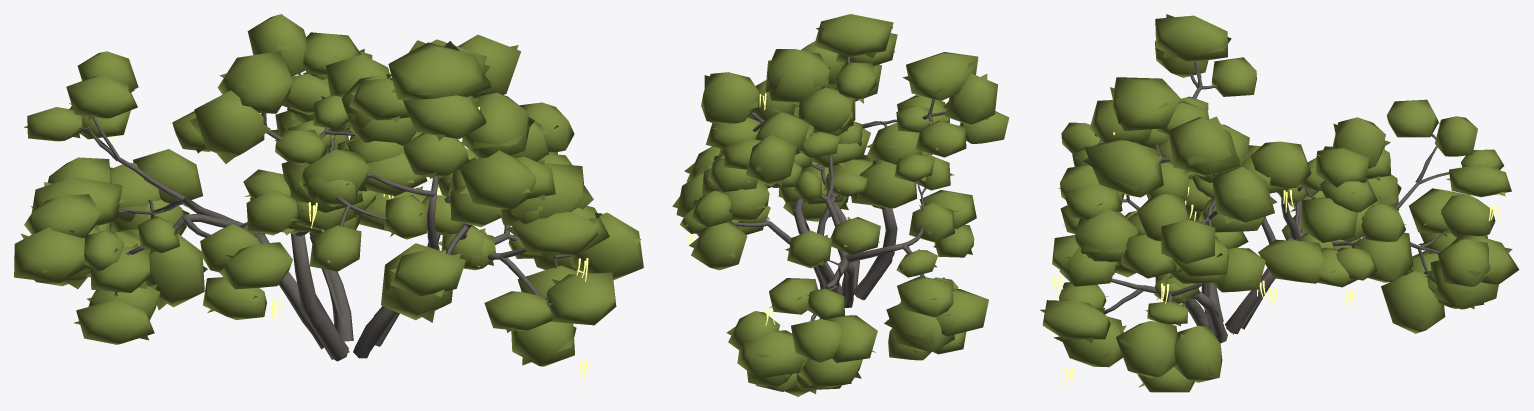
File: scrub_oak_4.glb
3 views of the same model, side by side, from view 1: azimuth 30°, elevation 25°; view 2: azimuth 150°, elevation 25°; view 3: azimuth 270°, elevation 25° (orthographic). The views are drawn at different scales.
Parts seen in each view (by area): view 1: ScrubOak_Far_Foliage, ScrubOak_Foliage_72_Leaves, ScrubOak_Far_Bark, ScrubOak_Foliage_3_Leaves, ScrubOak_Foliage_26_Leaves, ScrubOak_Foliage_66_Leaves, ScrubOak_Foliage_65_Leaves, ScrubOak_Foliage_7_Leaves, ScrubOak_Foliage_91_Leaves, ScrubOak_Foliage_52_Leaves, ScrubOak_Foliage_10_Leaves, ScrubOak_Foliage_85_Leaves (+59 smaller); view 2: ScrubOak_Far_Foliage, ScrubOak_Foliage_72_Leaves, ScrubOak_Foliage_66_Leaves, ScrubOak_Foliage_74_Leaves, ScrubOak_Foliage_50_Leaves, ScrubOak_Foliage_79_Leaves, ScrubOak_Foliage_21_Leaves, ScrubOak_Foliage_12_Leaves, ScrubOak_LimbWood_2, ScrubOak_Foliage_77_Leaves, ScrubOak_Foliage_47_Leaves, ScrubOak_Foliage_27_Leaves (+52 smaller); view 3: ScrubOak_Far_Foliage, ScrubOak_Foliage_91_Leaves, ScrubOak_Foliage_72_Leaves, ScrubOak_Foliage_79_Leaves, ScrubOak_Foliage_66_Leaves, ScrubOak_Foliage_52_Leaves, ScrubOak_Foliage_85_Leaves, ScrubOak_Foliage_74_Leaves, ScrubOak_Foliage_18_Leaves, ScrubOak_Foliage_7_Leaves, ScrubOak_Foliage_84_Leaves, ScrubOak_Foliage_94_Leaves (+51 smaller).
Boxes of the visible parts, x1,y1,x2,y2 form: ScrubOak_Far_Foliage: [21, 40, 641, 365]; ScrubOak_Foliage_72_Leaves: [388, 42, 491, 100]; ScrubOak_Far_Bark: [80, 74, 559, 359]; ScrubOak_Foliage_3_Leaves: [459, 150, 535, 209]; ScrubOak_Foliage_26_Leaves: [14, 227, 88, 282]; ScrubOak_Foliage_66_Leaves: [217, 51, 292, 113]; ScrubOak_Foliage_65_Leaves: [194, 90, 264, 157]; ScrubOak_Foliage_7_Leaves: [546, 272, 616, 325]; ScrubOak_Foliage_91_Leaves: [462, 92, 529, 158]; ScrubOak_Foliage_52_Leaves: [145, 233, 204, 307]; ScrubOak_Foliage_10_Leaves: [511, 212, 598, 254]; ScrubOak_Foliage_85_Leaves: [570, 212, 643, 280]; ScrubOak_Far_Foliage: [672, 27, 1008, 393]; ScrubOak_Foliage_72_Leaves: [814, 14, 893, 56]; ScrubOak_Foliage_66_Leaves: [906, 52, 978, 100]; ScrubOak_Foliage_74_Leaves: [701, 72, 758, 125]; ScrubOak_Foliage_50_Leaves: [737, 330, 804, 378]; ScrubOak_Foliage_79_Leaves: [766, 49, 829, 103]; ScrubOak_Foliage_21_Leaves: [691, 221, 747, 270]; ScrubOak_Foliage_12_Leaves: [856, 161, 917, 208]; ScrubOak_LimbWood_2: [792, 154, 926, 333]; ScrubOak_Foliage_77_Leaves: [798, 87, 854, 133]; ScrubOak_Foliage_47_Leaves: [746, 135, 796, 185]; ScrubOak_Foliage_27_Leaves: [897, 276, 953, 317]; ScrubOak_Far_Foliage: [1040, 14, 1512, 387]; ScrubOak_Foliage_91_Leaves: [1085, 140, 1163, 197]; ScrubOak_Foliage_72_Leaves: [1112, 77, 1180, 131]; ScrubOak_Foliage_79_Leaves: [1168, 117, 1240, 176]; ScrubOak_Foliage_66_Leaves: [1155, 15, 1227, 62]; ScrubOak_Foliage_52_Leaves: [1381, 271, 1445, 333]; ScrubOak_Foliage_85_Leaves: [1116, 321, 1177, 377]; ScrubOak_Foliage_74_Leaves: [1212, 167, 1274, 223]; ScrubOak_Foliage_18_Leaves: [1258, 239, 1324, 283]; ScrubOak_Foliage_7_Leaves: [1042, 300, 1110, 339]; ScrubOak_Foliage_84_Leaves: [1174, 325, 1222, 382]; ScrubOak_Foliage_94_Leaves: [1075, 209, 1138, 262].
Bounding box in the file's own units: 4.88 × 3.36 × 4.93.
